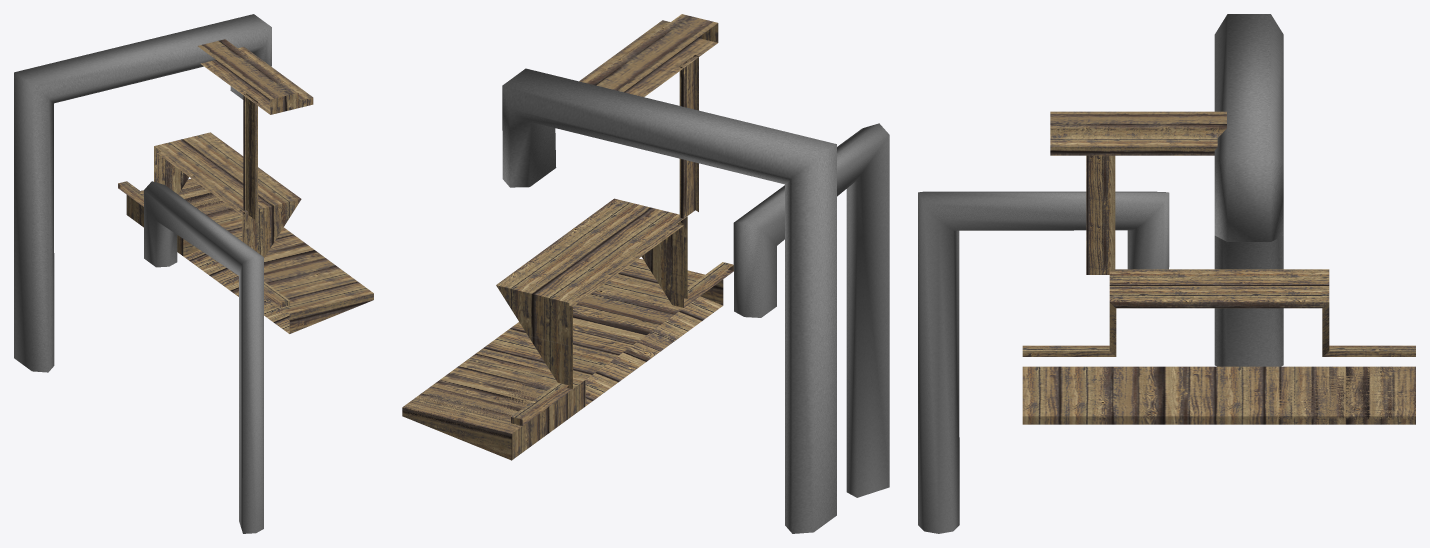
The model's file is blacksmith_platform3.fbx.
3 views of the same model, side by side, from view 1: azimuth 30°, elevation 25°; view 2: azimuth 150°, elevation 25°; view 3: azimuth 270°, elevation 25° (orthographic). The views are drawn at different scales.
Visible parts, largest first — view 1: blacksmith_platform4, polySurface27, blacksmith_platformLG, blacksmith_platform2, blacksmith_platformSM; view 2: blacksmith_platform4, polySurface27, blacksmith_platformLG, blacksmith_platform2, blacksmith_platformSM; view 3: blacksmith_platform4, polySurface27, blacksmith_platformLG, blacksmith_platform2, blacksmith_platformSM.
Part boxes in pixels (x1,y1,x2,y2): blacksmith_platform4: (14, 14, 313, 372); polySurface27: (144, 181, 263, 533); blacksmith_platformLG: (141, 178, 373, 333); blacksmith_platform2: (118, 132, 301, 307); blacksmith_platformSM: (126, 179, 237, 256); blacksmith_platform4: (502, 14, 836, 533); polySurface27: (733, 123, 889, 497); blacksmith_platformLG: (402, 258, 723, 460); blacksmith_platform2: (496, 198, 733, 425); blacksmith_platformSM: (402, 353, 585, 460); blacksmith_platform4: (1050, 14, 1283, 366); polySurface27: (918, 191, 1169, 533); blacksmith_platformLG: (1022, 366, 1415, 424); blacksmith_platform2: (1022, 269, 1415, 356); blacksmith_platformSM: (1278, 366, 1415, 424).
Size of the model in its own units: 1114 by 1563 by 1550.
